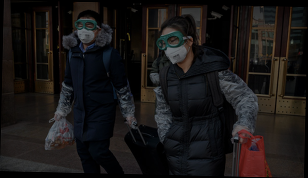with_mask: (157, 33, 188, 67), (75, 20, 97, 45)
